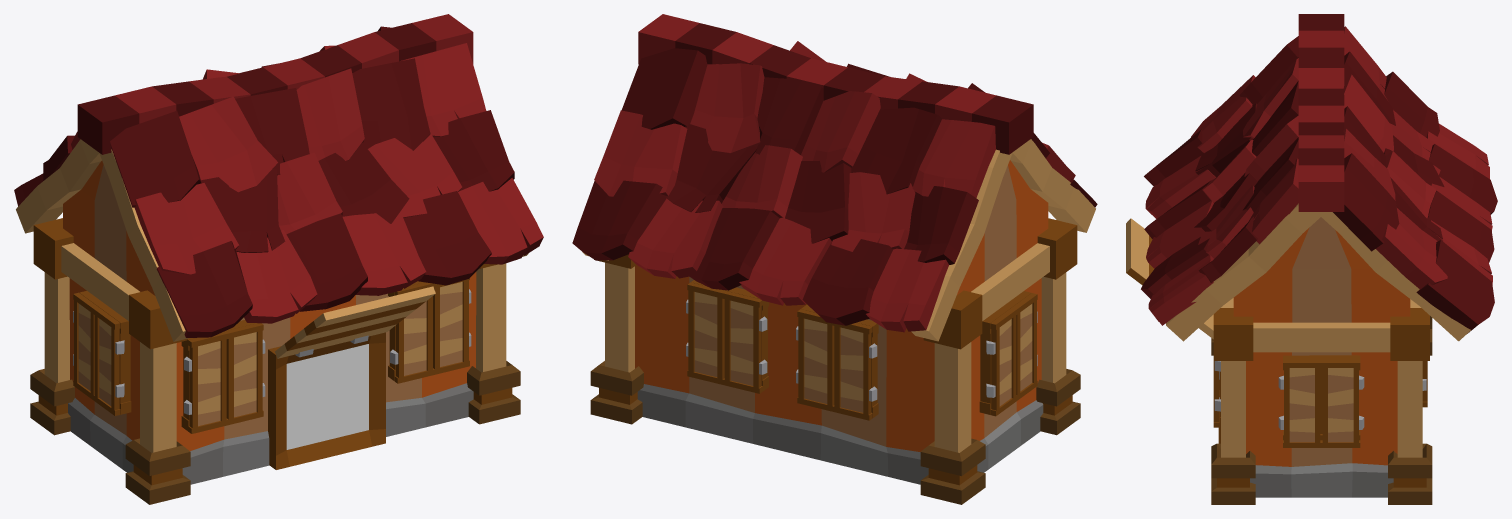
The model's file is bina.fbx.
The picture shows the model from 3 angles, left to right: view 1: azimuth 30°, elevation 25°; view 2: azimuth 150°, elevation 25°; view 3: azimuth 270°, elevation 25°; orthographic projection. The views are drawn at different scales.
Parts seen in each view (by area): view 1: Bina, Kapı, KapıHareket, Sol.005, Sağ.005, Sağ.004, Sol.004, Sağ, Sol, SolPencere, ÖnSolPencere; view 2: Bina, Sağ.003, Sağ.002, Sol.003, Sol.002, Sol, Sağ, SolPencere, ArkaSolPencere, ArkaSağPencere; view 3: Bina, Sağ.001, Sol.001, KapıHareket, SağPencere, Sağ.004.
Boxes of the visible parts, x1=… form: Bina: x1=14, y1=14, x2=543, y2=504; Kapı: x1=268, y1=332, x2=385, y2=469; KapıHareket: x1=275, y1=286, x2=435, y2=358; Sol.005: x1=184, y1=331, x2=227, y2=433; Sağ.005: x1=225, y1=323, x2=265, y2=425; Sağ.004: x1=433, y1=278, x2=471, y2=374; Sol.004: x1=390, y1=282, x2=433, y2=383; Sağ: x1=94, y1=308, x2=124, y2=415; Sol: x1=73, y1=292, x2=99, y2=400; SolPencere: x1=79, y1=291, x2=131, y2=414; ÖnSolPencere: x1=181, y1=320, x2=256, y2=431; Bina: x1=572, y1=14, x2=1097, y2=504; Sağ.003: x1=723, y1=291, x2=767, y2=393; Sağ.002: x1=833, y1=322, x2=877, y2=420; Sol.003: x1=686, y1=282, x2=726, y2=384; Sol.002: x1=796, y1=309, x2=834, y2=411; Sol: x1=986, y1=308, x2=1016, y2=416; Sağ: x1=1011, y1=293, x2=1037, y2=400; SolPencere: x1=979, y1=291, x2=1031, y2=414; ArkaSolPencere: x1=691, y1=280, x2=768, y2=390; ArkaSağPencere: x1=801, y1=304, x2=878, y2=417; Bina: x1=1141, y1=14, x2=1497, y2=504; Sağ.001: x1=1321, y1=360, x2=1364, y2=447; Sol.001: x1=1278, y1=360, x2=1321, y2=447; KapıHareket: x1=1126, y1=218, x2=1213, y2=339; SağPencere: x1=1283, y1=355, x2=1360, y2=440; Sağ.004: x1=1213, y1=361, x2=1220, y2=427.
Size of the model in its own units: 675 by 606 by 631.
